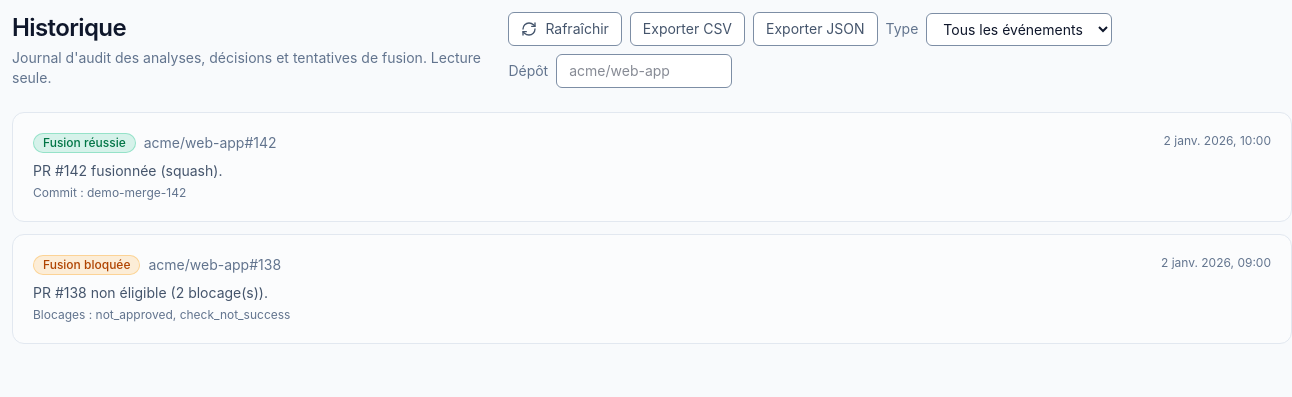
Test case: HistoryPage › affiche une erreur si l’export échoue
The image size is (1292, 397).
Expected: the text "PR #142 fusionnée (squash)." is shown, [33, 162, 222, 179]
Step 1. Click the button "Exporter JSON" → (815, 29), box [753, 12, 878, 46]
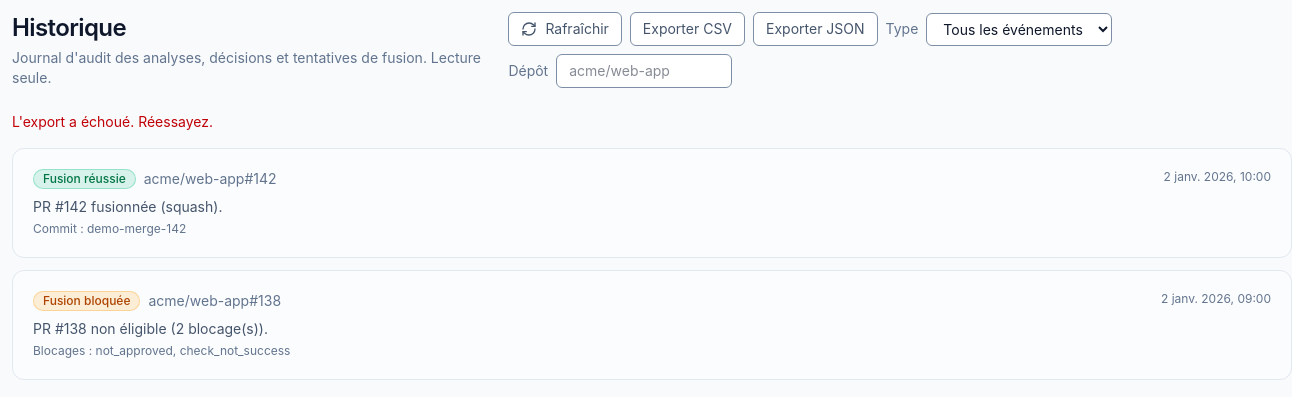
Expected: the message reads "L'export a échoué. Réessayez.", [12, 113, 213, 130]
